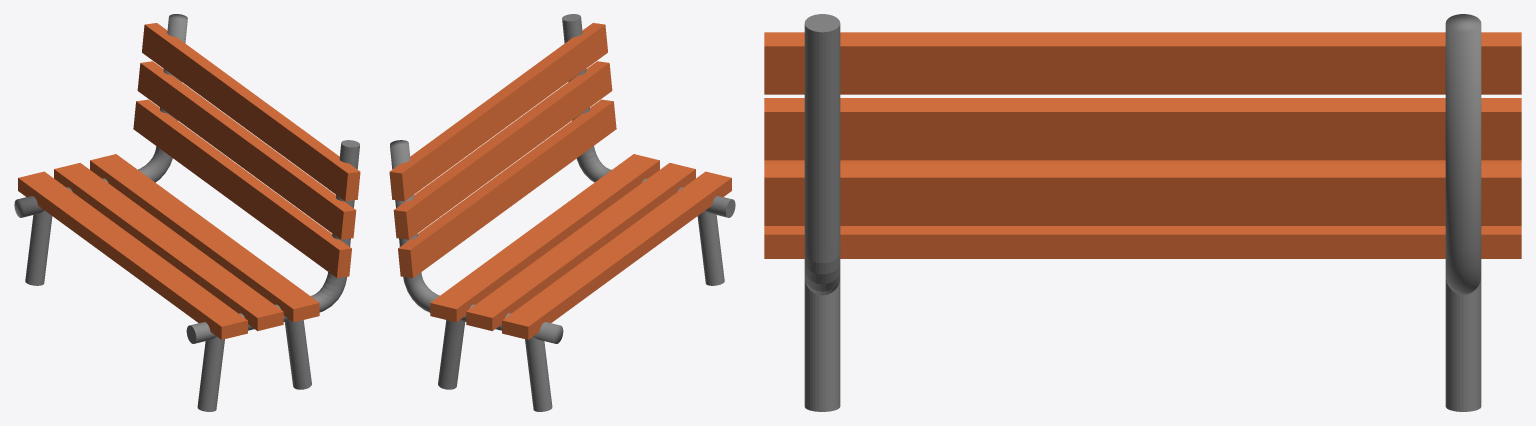
Rendered from bench.fbx.
3 views of the same model, side by side, from view 1: azimuth 30°, elevation 25°; view 2: azimuth 150°, elevation 25°; view 3: azimuth 270°, elevation 25° (orthographic). The views are drawn at different scales.
Visible parts, largest first — view 1: Cube.005, Cube.004, Cube.003, Cube, Cube.002, Cube.001, Cylinder.001, Cylinder.002, Cylinder, Cylinder.004, Cylinder.005; view 2: Cube.005, Cube.004, Cube.003, Cube, Cube.002, Cube.001, Cylinder.002, Cylinder.001, Cylinder.004, Cylinder, Cylinder.003; view 3: Cube.003, Cube.004, Cube.005, Cube.002, Cylinder.001, Cylinder.002, Cylinder.003, Cylinder.005, Cube.
Boxes of the visible parts, left/top/right/bottom form: Cube.005: left=133, top=99, right=351, bottom=277; Cube.004: left=137, top=61, right=356, bottom=239; Cube.003: left=142, top=23, right=360, bottom=201; Cube: left=18, top=171, right=247, bottom=339; Cube.002: left=90, top=154, right=319, bottom=322; Cube.001: left=54, top=163, right=283, bottom=331; Cylinder.001: left=186, top=140, right=359, bottom=343; Cylinder.002: left=14, top=14, right=187, bottom=217; Cylinder: left=197, top=337, right=224, bottom=411; Cylinder.004: left=25, top=210, right=52, bottom=285; Cylinder.005: left=284, top=320, right=311, bottom=389; Cube.005: left=398, top=99, right=616, bottom=277; Cube.004: left=393, top=61, right=612, bottom=239; Cube.003: left=389, top=23, right=607, bottom=201; Cube: left=502, top=171, right=731, bottom=339; Cube.002: left=430, top=154, right=659, bottom=322; Cube.001: left=466, top=163, right=695, bottom=331; Cylinder.002: left=390, top=140, right=563, bottom=343; Cylinder.001: left=562, top=14, right=735, bottom=217; Cylinder.004: left=525, top=337, right=552, bottom=411; Cylinder: left=697, top=210, right=724, bottom=285; Cylinder.003: left=438, top=320, right=465, bottom=389; Cube.003: left=764, top=32, right=1521, bottom=94; Cube.004: left=764, top=98, right=1521, bottom=160; Cube.005: left=764, top=163, right=1521, bottom=225; Cube.002: left=764, top=226, right=1521, bottom=258; Cylinder.001: left=804, top=14, right=840, bottom=295; Cylinder.002: left=1445, top=14, right=1481, bottom=294; Cylinder.003: left=1445, top=277, right=1481, bottom=411; Cylinder.005: left=804, top=278, right=840, bottom=411; Cube: left=764, top=160, right=1521, bottom=163.
Bounding box in the file's own units: 158 × 209 × 332.
